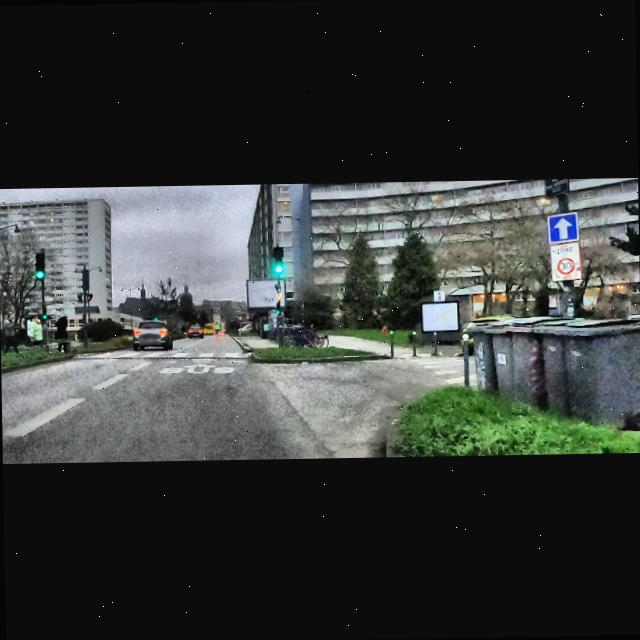speed_30: (558, 256, 574, 273)
